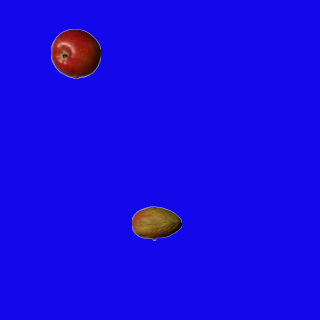Apple Braeburn: (50, 28, 100, 78)
Papaya: (131, 198, 181, 248)
